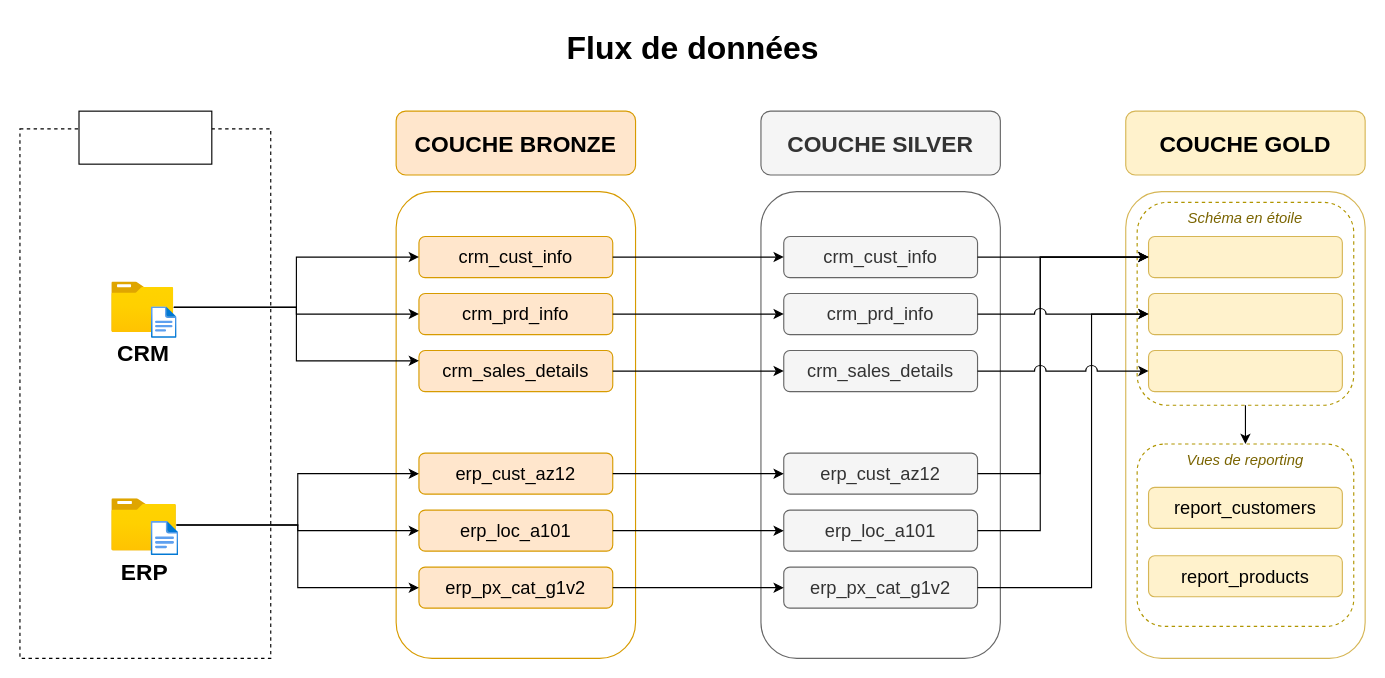
This 1385x678 diagram has some shape labels left out. Each missing label, with the centre of its shape:
dim_customers: the point at 1244,256
dim_products: the point at 1244,313
fact_sales: the point at 1244,370
SOURCES: the point at 145,137
